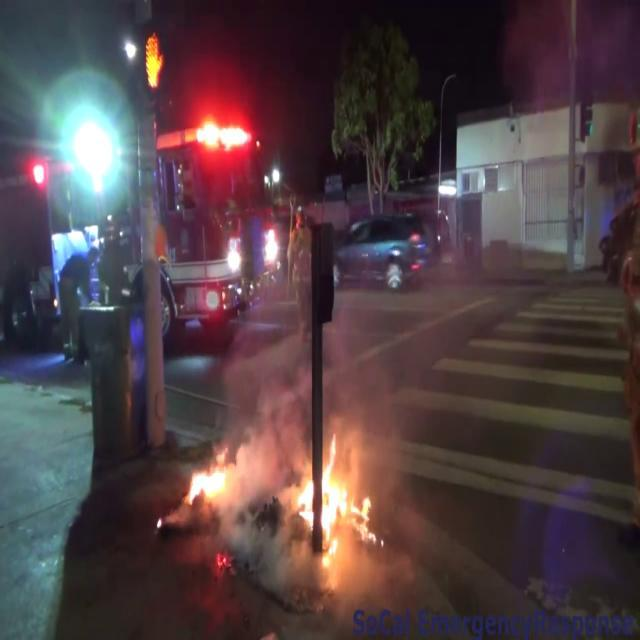Fire: (292, 431, 366, 561), (189, 428, 267, 518)
